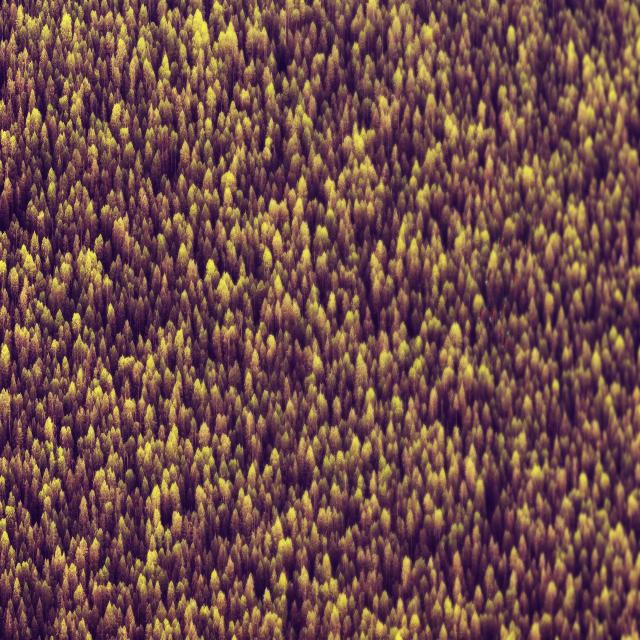airplane: (490, 302, 498, 327), (478, 303, 486, 327), (485, 269, 493, 289), (498, 232, 504, 256), (499, 298, 506, 318), (503, 330, 510, 350), (512, 267, 520, 284), (526, 236, 532, 252), (509, 234, 514, 253)
